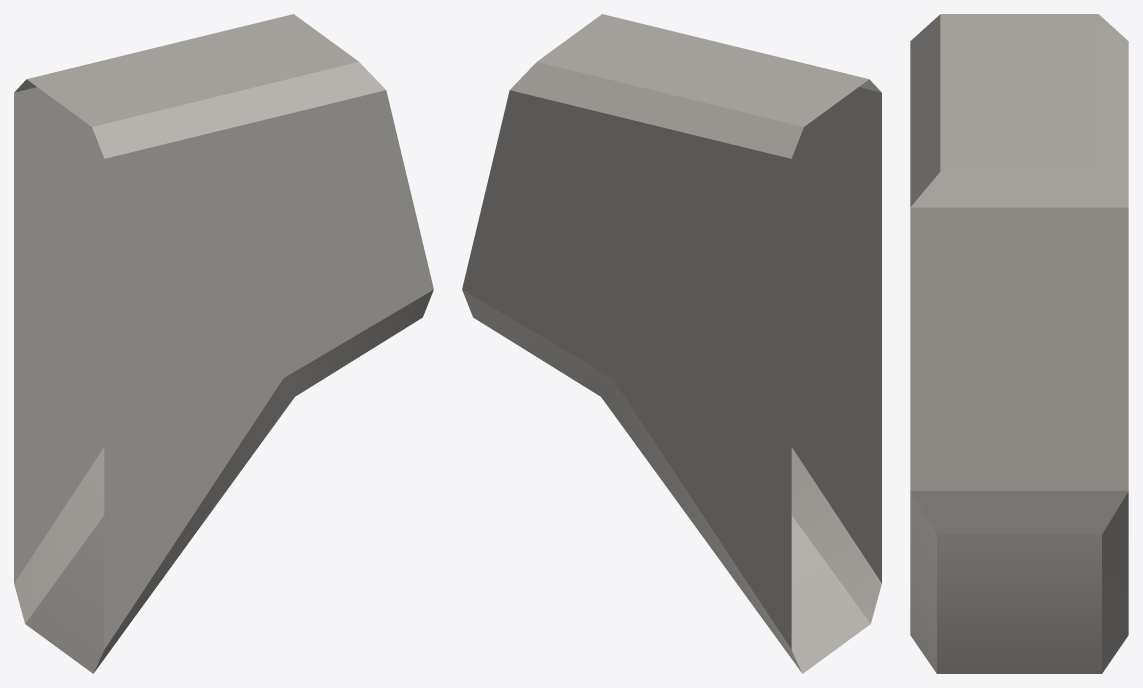
Rendered from Pillar Link 02.FBX.
The picture shows the model from 3 angles, left to right: view 1: azimuth 30°, elevation 25°; view 2: azimuth 150°, elevation 25°; view 3: azimuth 270°, elevation 25°; orthographic projection. The views are drawn at different scales.
Parts seen in each view (by area): view 1: Pillar Link 02; view 2: Pillar Link 02; view 3: Pillar Link 02.
Part boxes in pixels (x1=…): Pillar Link 02: x1=14, y1=14, x2=433, y2=673; Pillar Link 02: x1=462, y1=14, x2=881, y2=673; Pillar Link 02: x1=910, y1=14, x2=1128, y2=673.
Bounding box in the file's own units: 126 × 200 × 60.1.
1 material, 1 textured.
